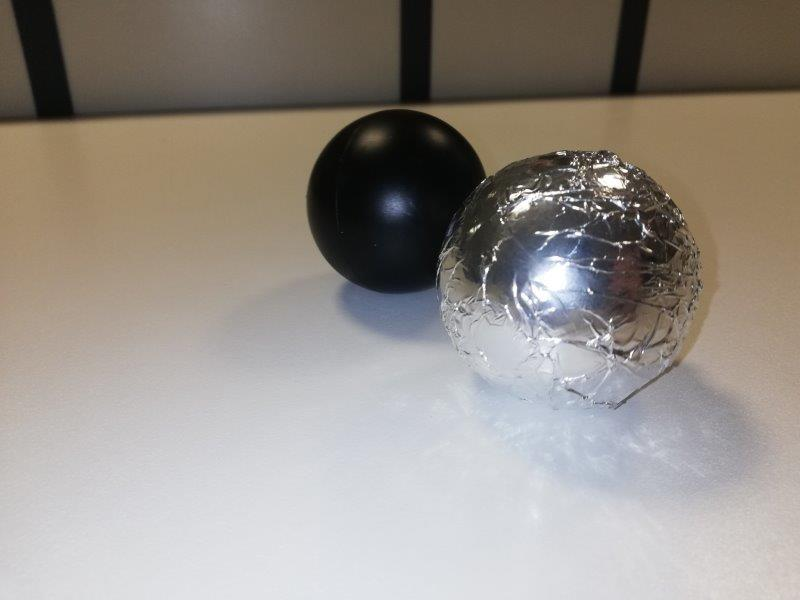bianca: (441, 151, 701, 409)
nera: (304, 109, 488, 293)
